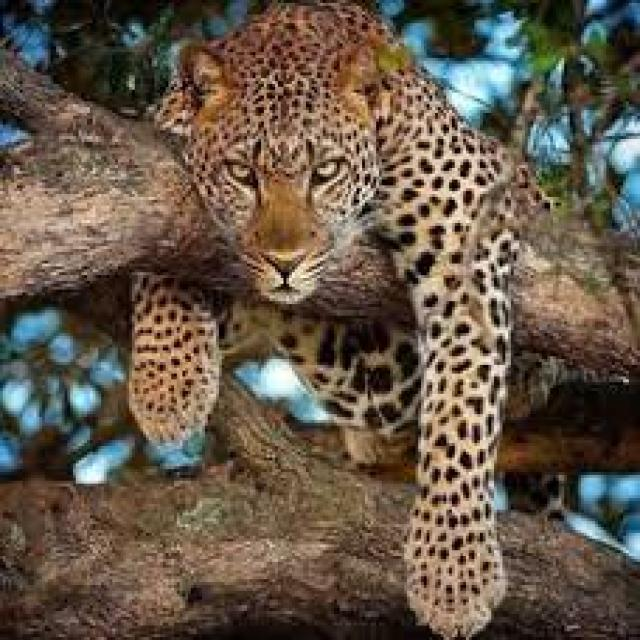Jaguar: (132, 6, 519, 625)
